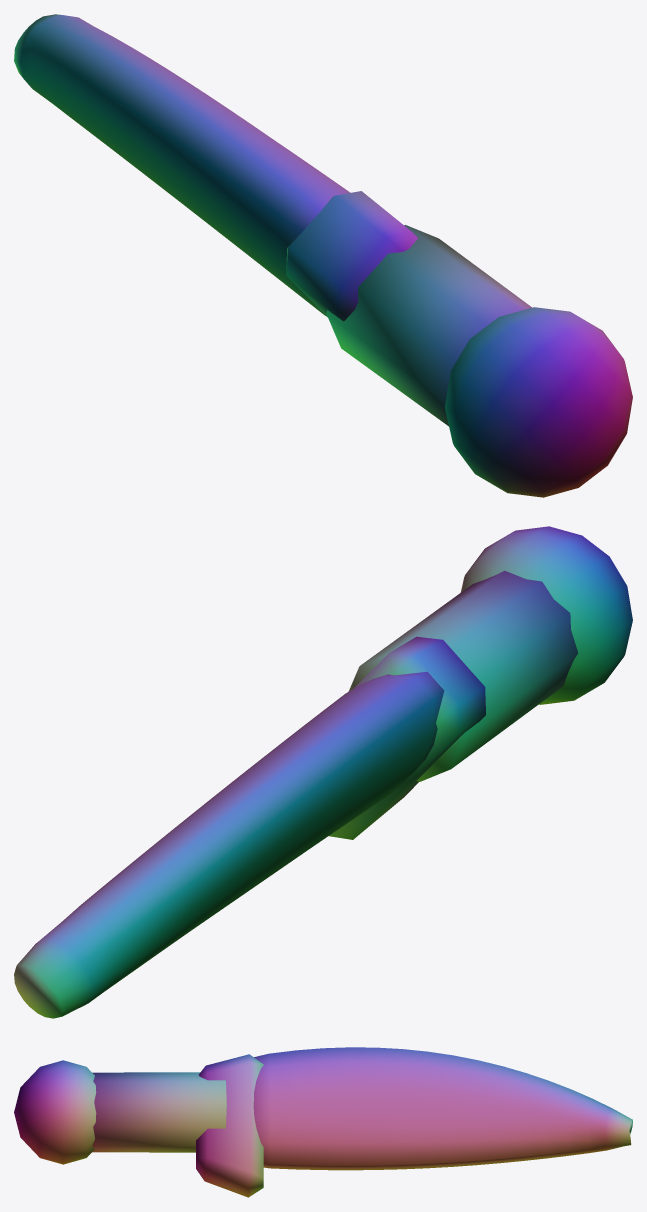
The model's file is SM_Hero_Rogue_Dagger.fbx.
3 renders of one model, top to bottom at view 1: azimuth 30°, elevation 25°; view 2: azimuth 150°, elevation 25°; view 3: azimuth 270°, elevation 25°, orthographic. The views are drawn at different scales.
Parts seen in each view (by area): view 1: SM_Hero_Rogue_Dagger; view 2: SM_Hero_Rogue_Dagger; view 3: SM_Hero_Rogue_Dagger.
Boxes of the visible parts, bbox=[...] form: SM_Hero_Rogue_Dagger: bbox=[14, 14, 632, 497]; SM_Hero_Rogue_Dagger: bbox=[14, 526, 632, 1018]; SM_Hero_Rogue_Dagger: bbox=[14, 1047, 632, 1197].
Bounding box in the file's own units: 0.101 × 0.1096 × 0.516.
